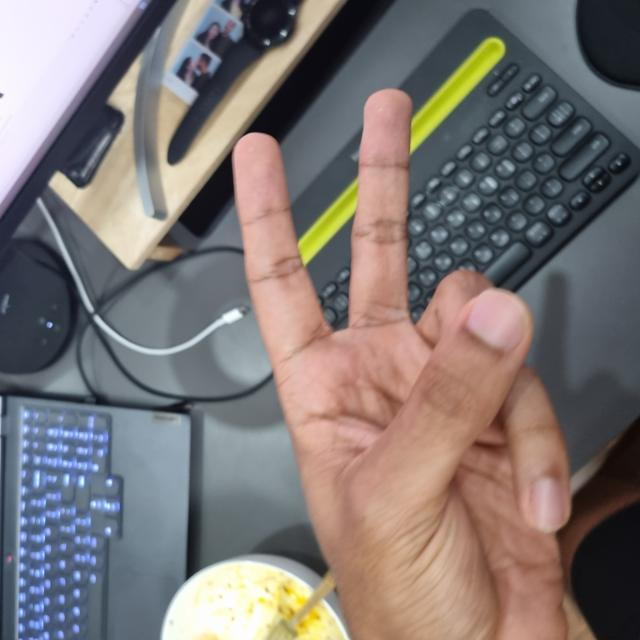Scissors: (1, 237, 554, 584)
